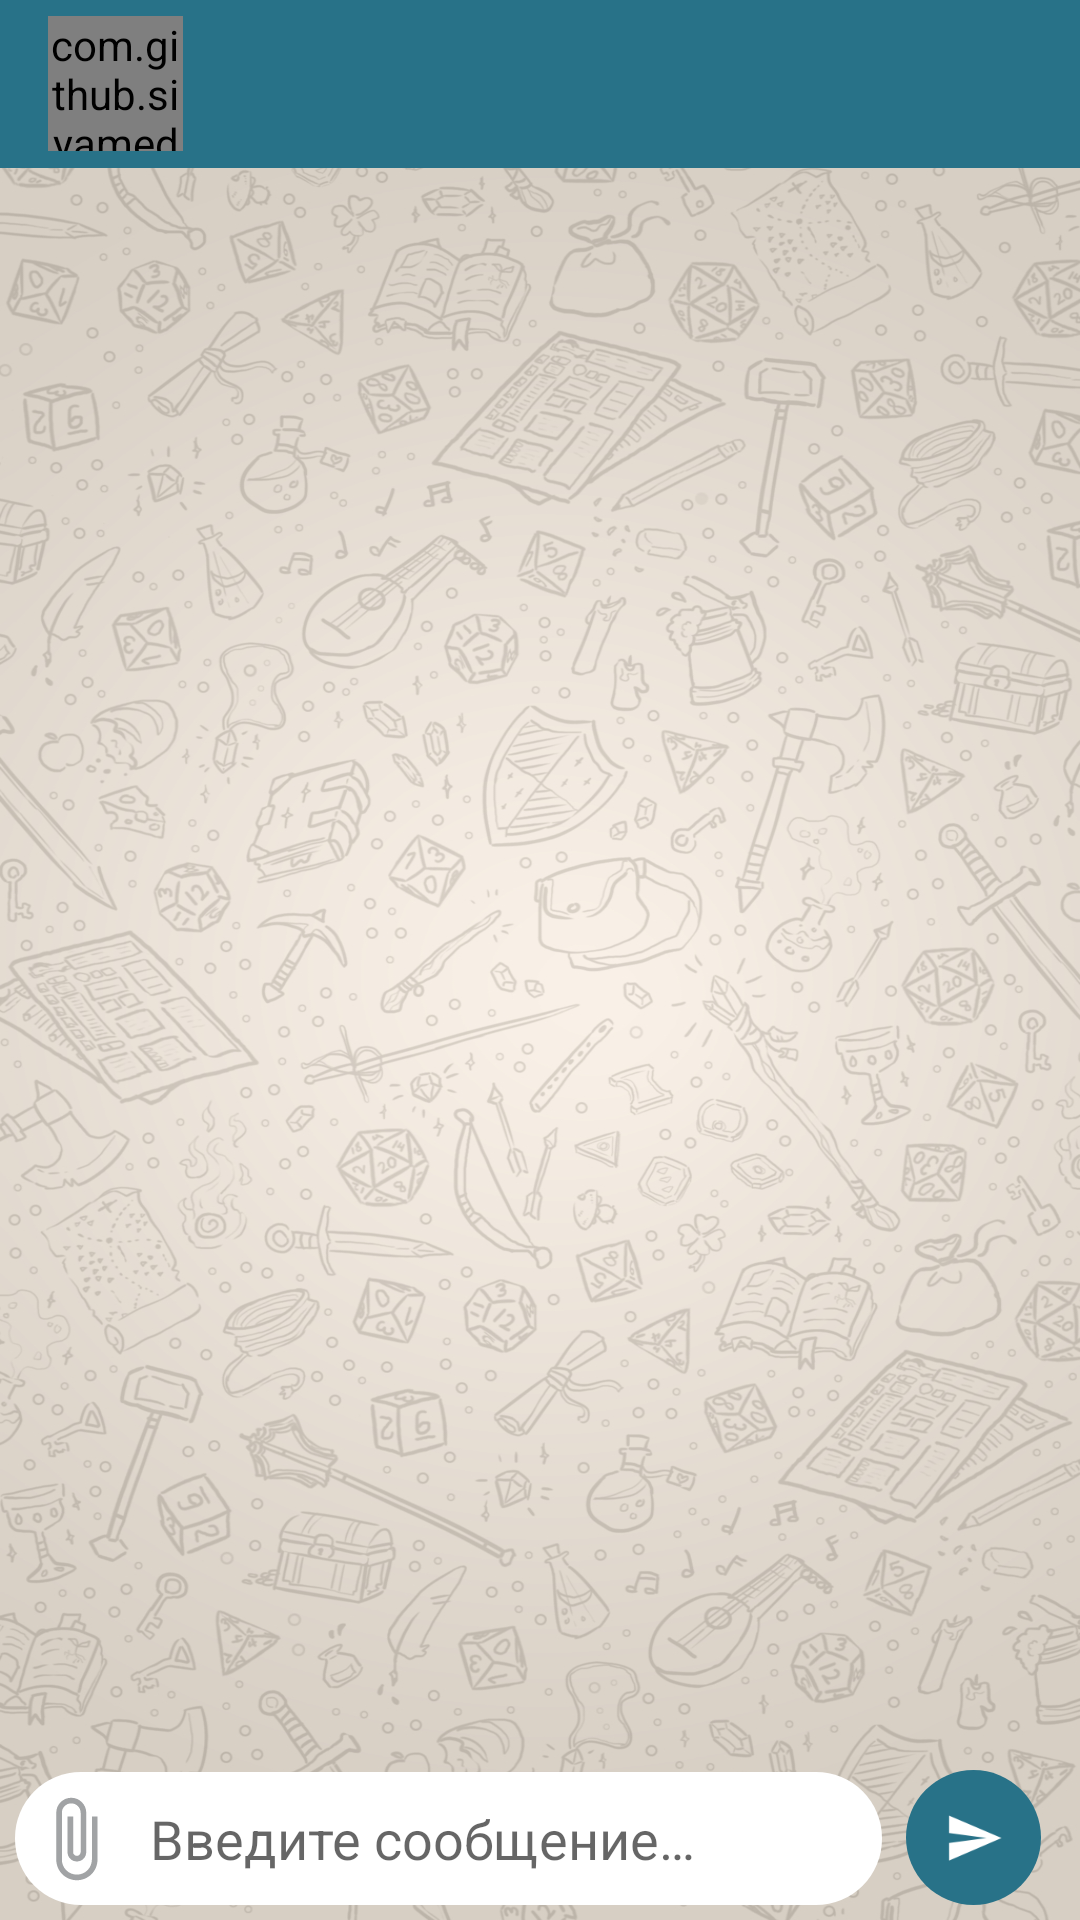

Named icons in this screenshot (1080 × 1920) and their centers, [x,y]:
choose file: [77,1839]
send message: [973,1837]
